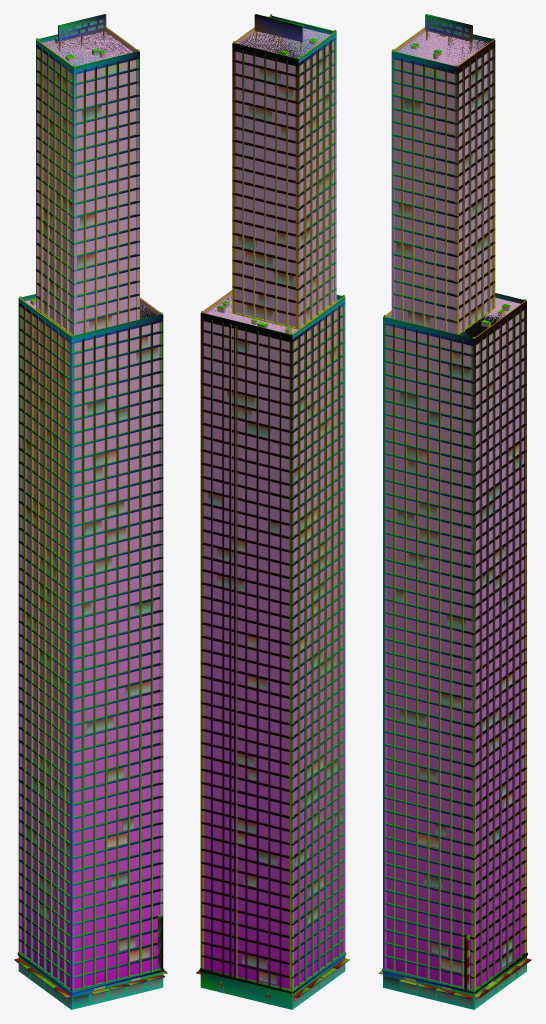
File: Tower_Mast_V8.fbx
3 views of the same model, side by side, from view 1: azimuth 30°, elevation 25°; view 2: azimuth 150°, elevation 25°; view 3: azimuth 330°, elevation 25° (orthographic).
Parts seen in each view (by area): view 1: Tower_Mast_V8_LOD0; view 2: Tower_Mast_V8_LOD0; view 3: Tower_Mast_V8_LOD0.
Boxes of the visible parts, x1,y1,x2,y2 form: Tower_Mast_V8_LOD0: (14, 14, 167, 1009); Tower_Mast_V8_LOD0: (196, 14, 349, 1009); Tower_Mast_V8_LOD0: (378, 14, 531, 1009).
Size of what is drawn, in the model's own units: 28.8 by 260 by 28.31.
